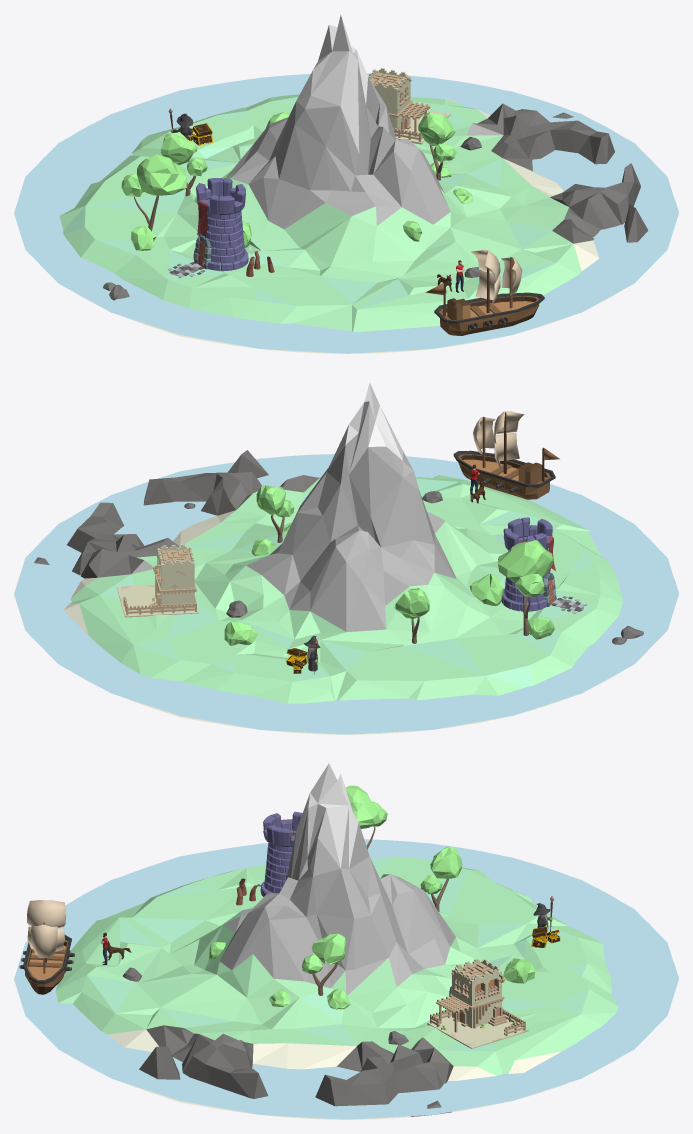
The picture shows the model from 3 angles, top to bottom: view 1: azimuth 30°, elevation 25°; view 2: azimuth 150°, elevation 25°; view 3: azimuth 270°, elevation 25°; orthographic projection.
Parts seen in each view (by area): view 1: pDisc1, pDisc3, tower.002_27, object 89, VoxTransform.001, pDisc4, pCube12, pCube15, pCube15_Leaf_Green_0.001, Hull_1, Sails_1; view 2: pDisc1, pDisc3, VoxTransform.001, object 89, pDisc4, tower.002_27, pCube12, pCube22, pCube15_Leaf_Green_0.001, pCube15, Sails_1, pCube21 (+2 smaller); view 3: pDisc1, pDisc3, VoxTransform.001, object 89, pDisc4, tower.002_27, pCube12, Sails_1, pCube15, pCube15_Leaf_Green_0.001, pCube21.
Part boxes in pixels (box(x1,y1,x2,y2)): pDisc1: box(59, 14, 653, 353); pDisc3: box(17, 73, 678, 350); tower.002_27: box(193, 178, 248, 271); object 89: box(425, 249, 539, 335); VoxTransform.001: box(368, 68, 450, 144); pDisc4: box(14, 77, 678, 353); pCube12: box(137, 154, 186, 195); pCube15: box(418, 112, 455, 145); pCube15_Leaf_Green_0.001: box(161, 132, 197, 164); Hull_1: box(434, 292, 544, 323); Sails_1: box(501, 257, 522, 308); pDisc1: box(34, 382, 622, 734); pDisc3: box(17, 454, 678, 731); VoxTransform.001: box(116, 544, 198, 617); object 89: box(458, 411, 559, 499); pDisc4: box(14, 458, 678, 734); tower.002_27: box(501, 517, 552, 611); pCube12: box(498, 540, 553, 582); pCube22: box(469, 573, 503, 605); pCube15_Leaf_Green_0.001: box(394, 588, 429, 616); pCube15: box(256, 485, 285, 514); Sails_1: box(473, 416, 495, 467); pCube21: box(224, 620, 257, 645); pDisc1: box(55, 763, 653, 1119); pDisc3: box(17, 839, 678, 1116); VoxTransform.001: box(427, 958, 528, 1048); object 89: box(21, 900, 73, 994); pDisc4: box(14, 843, 678, 1119); tower.002_27: box(260, 811, 302, 896); pCube12: box(345, 785, 379, 828); Sails_1: box(31, 922, 57, 973); pCube15: box(311, 933, 346, 964); pCube15_Leaf_Green_0.001: box(430, 846, 462, 878); pCube21: box(503, 958, 535, 983).
Bounding box in the file's own units: 143 × 52.02 × 143.
Materials: 41 (5 with a texture image).
